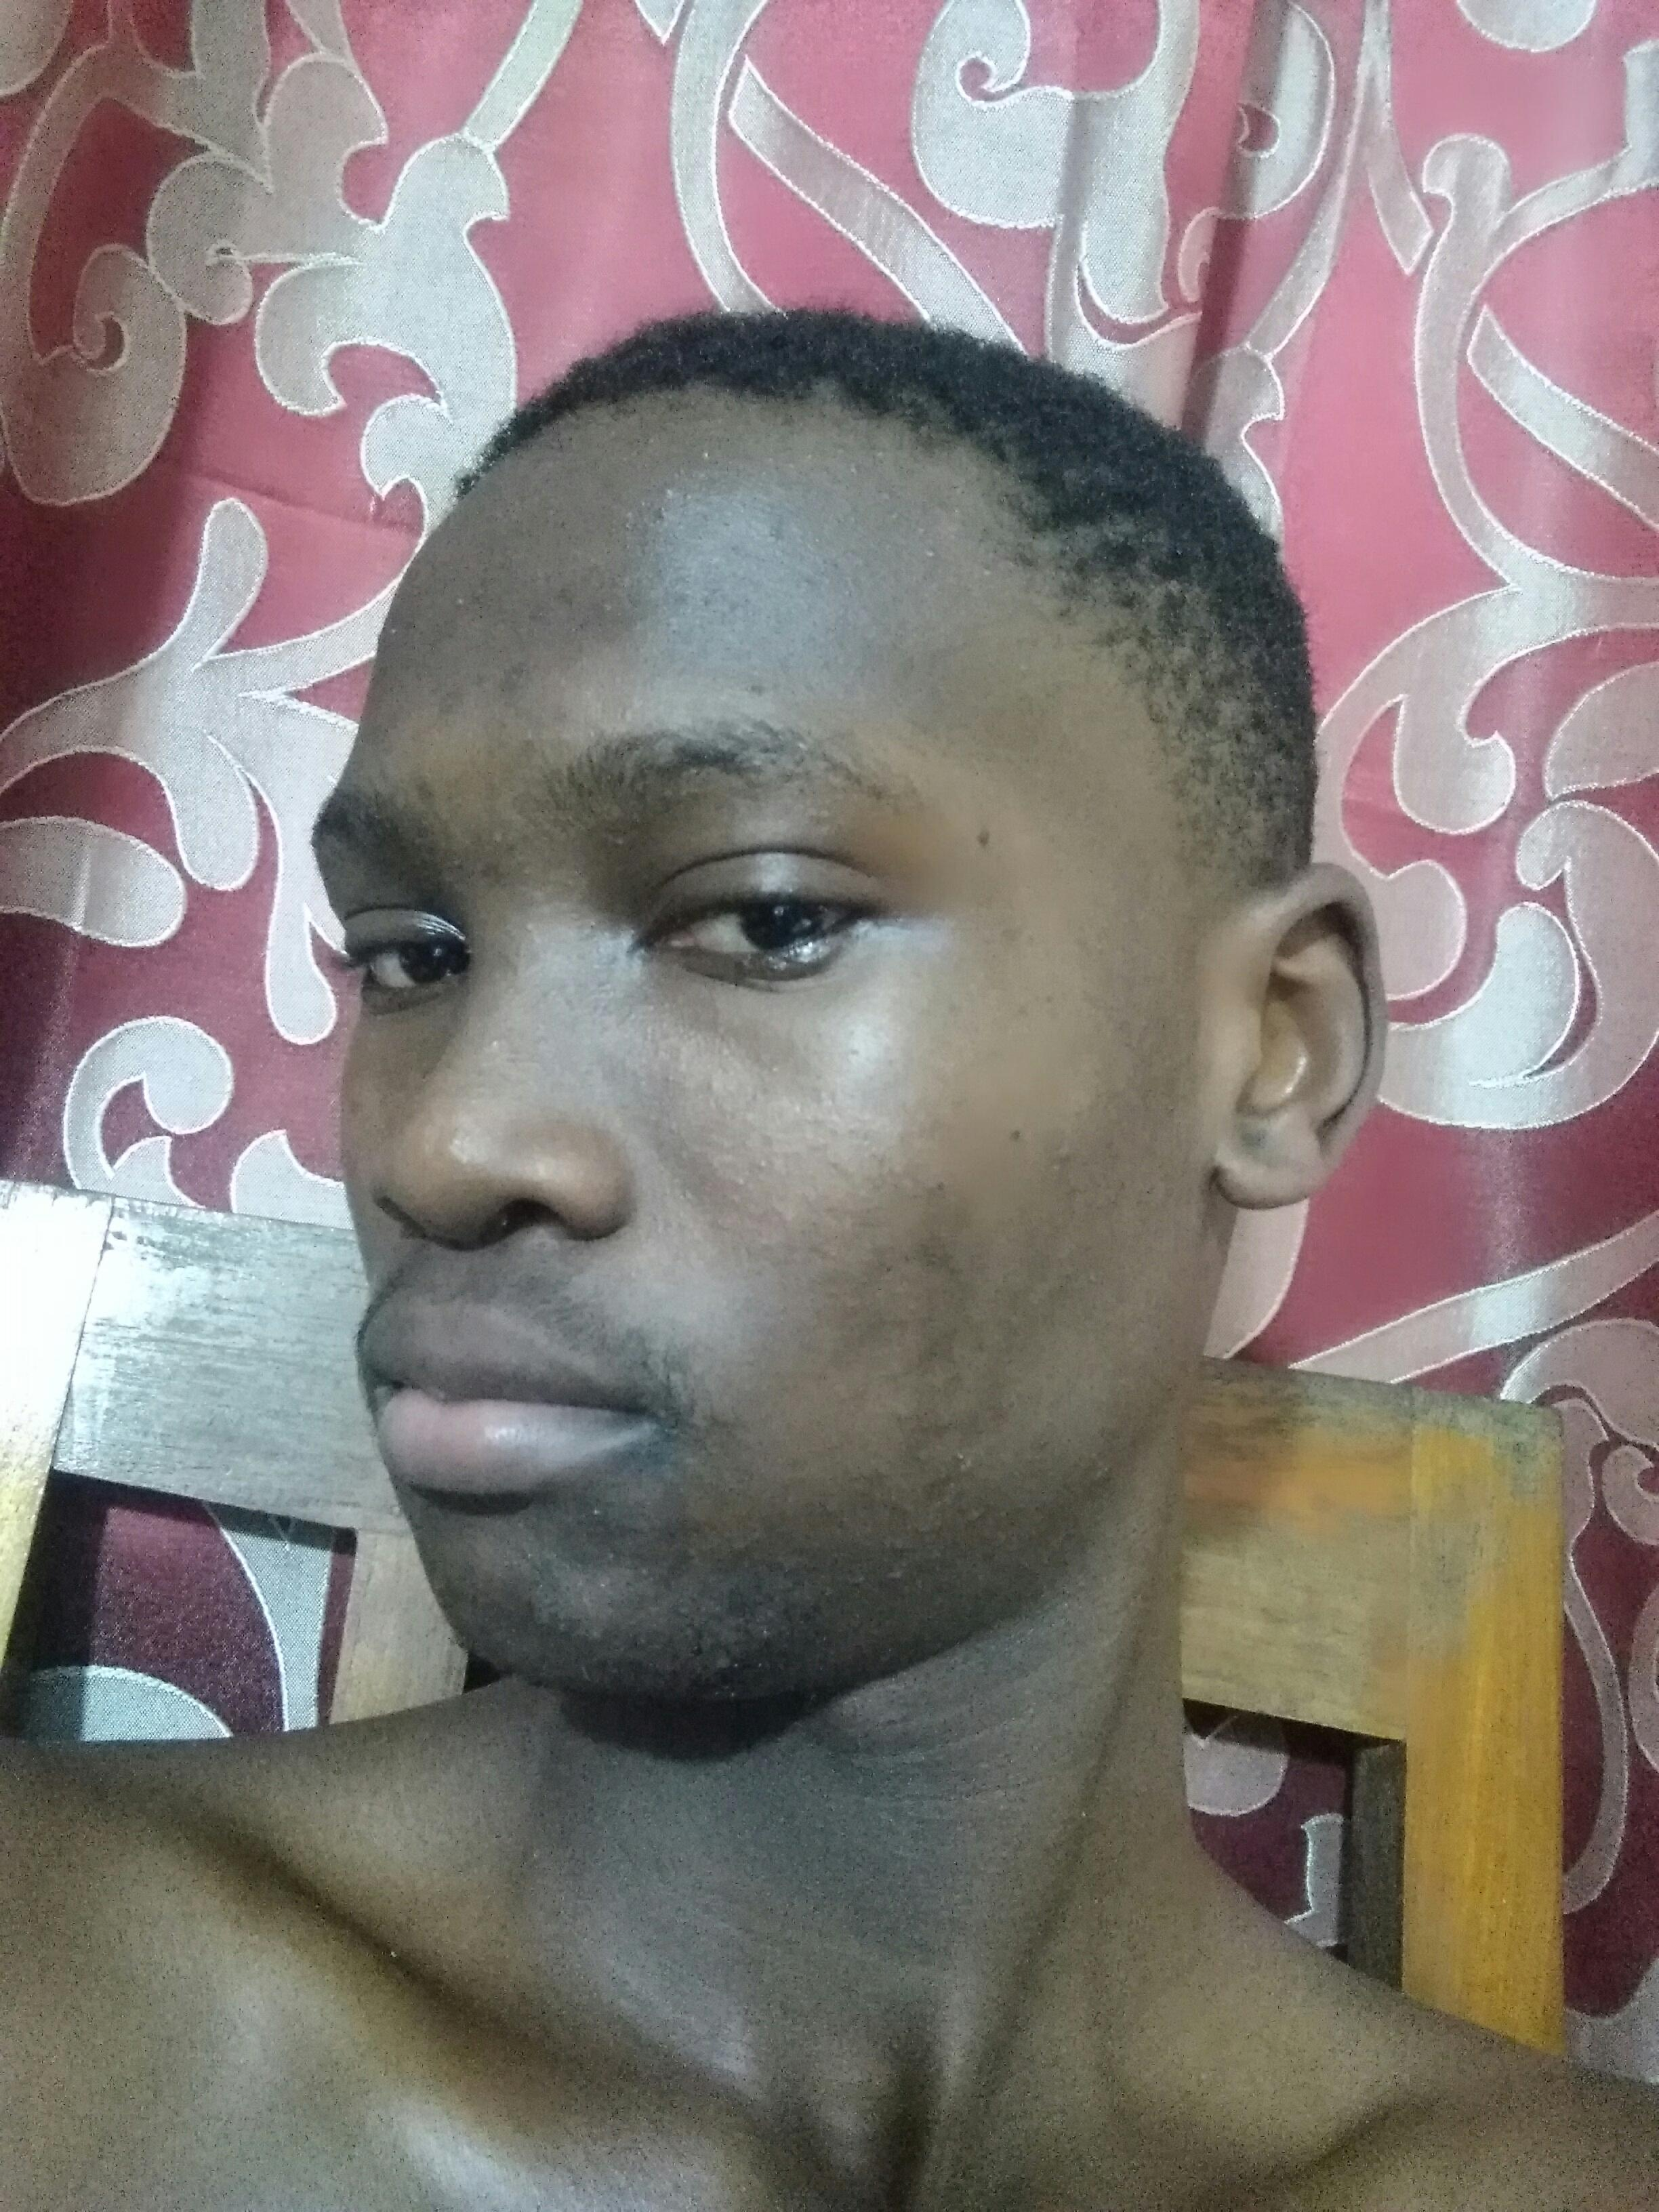Acne: (913, 1211, 957, 1285), (526, 582, 586, 625), (493, 655, 533, 705), (432, 685, 467, 728), (650, 479, 678, 531), (410, 770, 443, 813), (479, 1029, 509, 1066), (687, 444, 718, 474), (479, 857, 507, 890), (345, 1090, 369, 1127), (917, 536, 945, 568), (748, 1153, 774, 1183), (760, 521, 784, 552), (704, 1066, 725, 1097), (842, 456, 866, 479), (596, 597, 619, 615)
